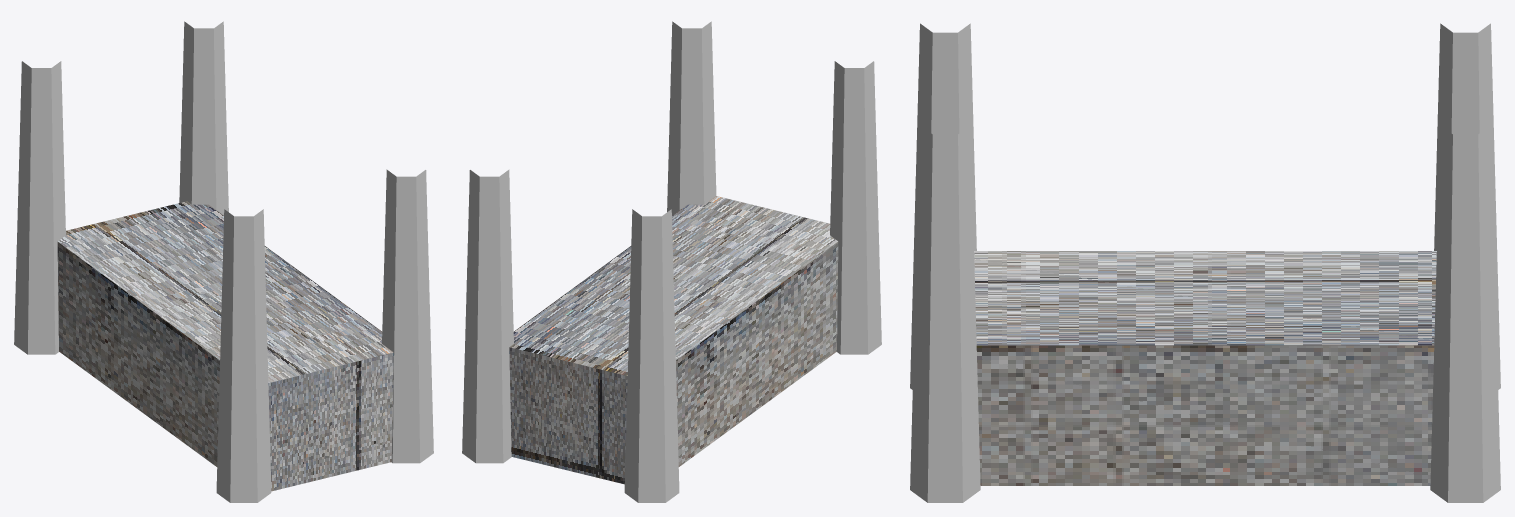
File: factory.gltf
3 renders of one model, left to right at view 1: azimuth 30°, elevation 25°; view 2: azimuth 150°, elevation 25°; view 3: azimuth 270°, elevation 25°, orthographic. The views are drawn at different scales.
Visible parts, largest first — view 1: Factory, Cylinder.007, Cylinder.005, Cylinder.008, Cylinder.006; view 2: Factory, Cylinder.005, Cylinder.006, Cylinder.007, Cylinder.008; view 3: Factory, Cylinder.008, Cylinder.006, Cylinder.007, Cylinder.005.
Part boxes in pixels (x1,y1,x2,y2): Factory: (57,201,393,491); Cylinder.007: (216,209,271,502); Cylinder.005: (14,61,65,354); Cylinder.008: (382,169,433,463); Cylinder.006: (179,21,228,215); Factory: (509,196,838,484); Cylinder.005: (624,209,679,502); Cylinder.006: (462,169,513,463); Cylinder.007: (830,61,881,354); Cylinder.008: (667,21,716,215); Factory: (974,251,1436,485); Cylinder.008: (910,125,980,502); Cylinder.006: (1430,125,1500,502); Cylinder.007: (910,23,976,389); Cylinder.005: (1434,23,1500,389).
Size of the model in its own units: 94.22 by 126 by 184.
1 material, 1 textured.
